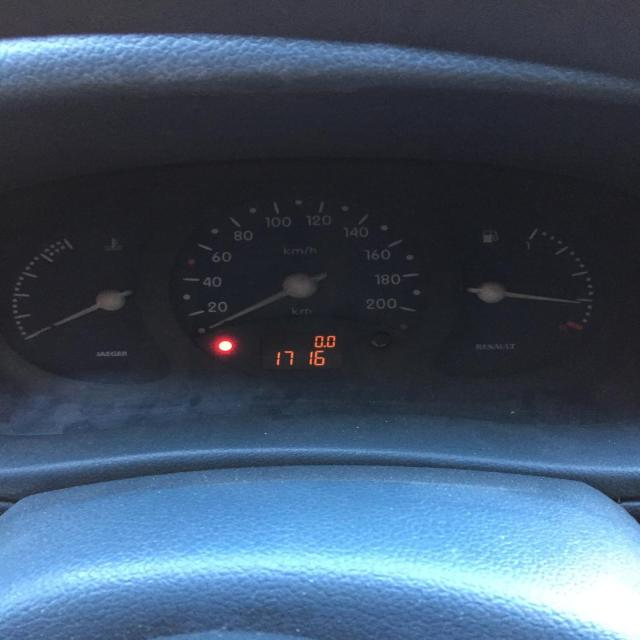odometer: (258, 330, 346, 371)
